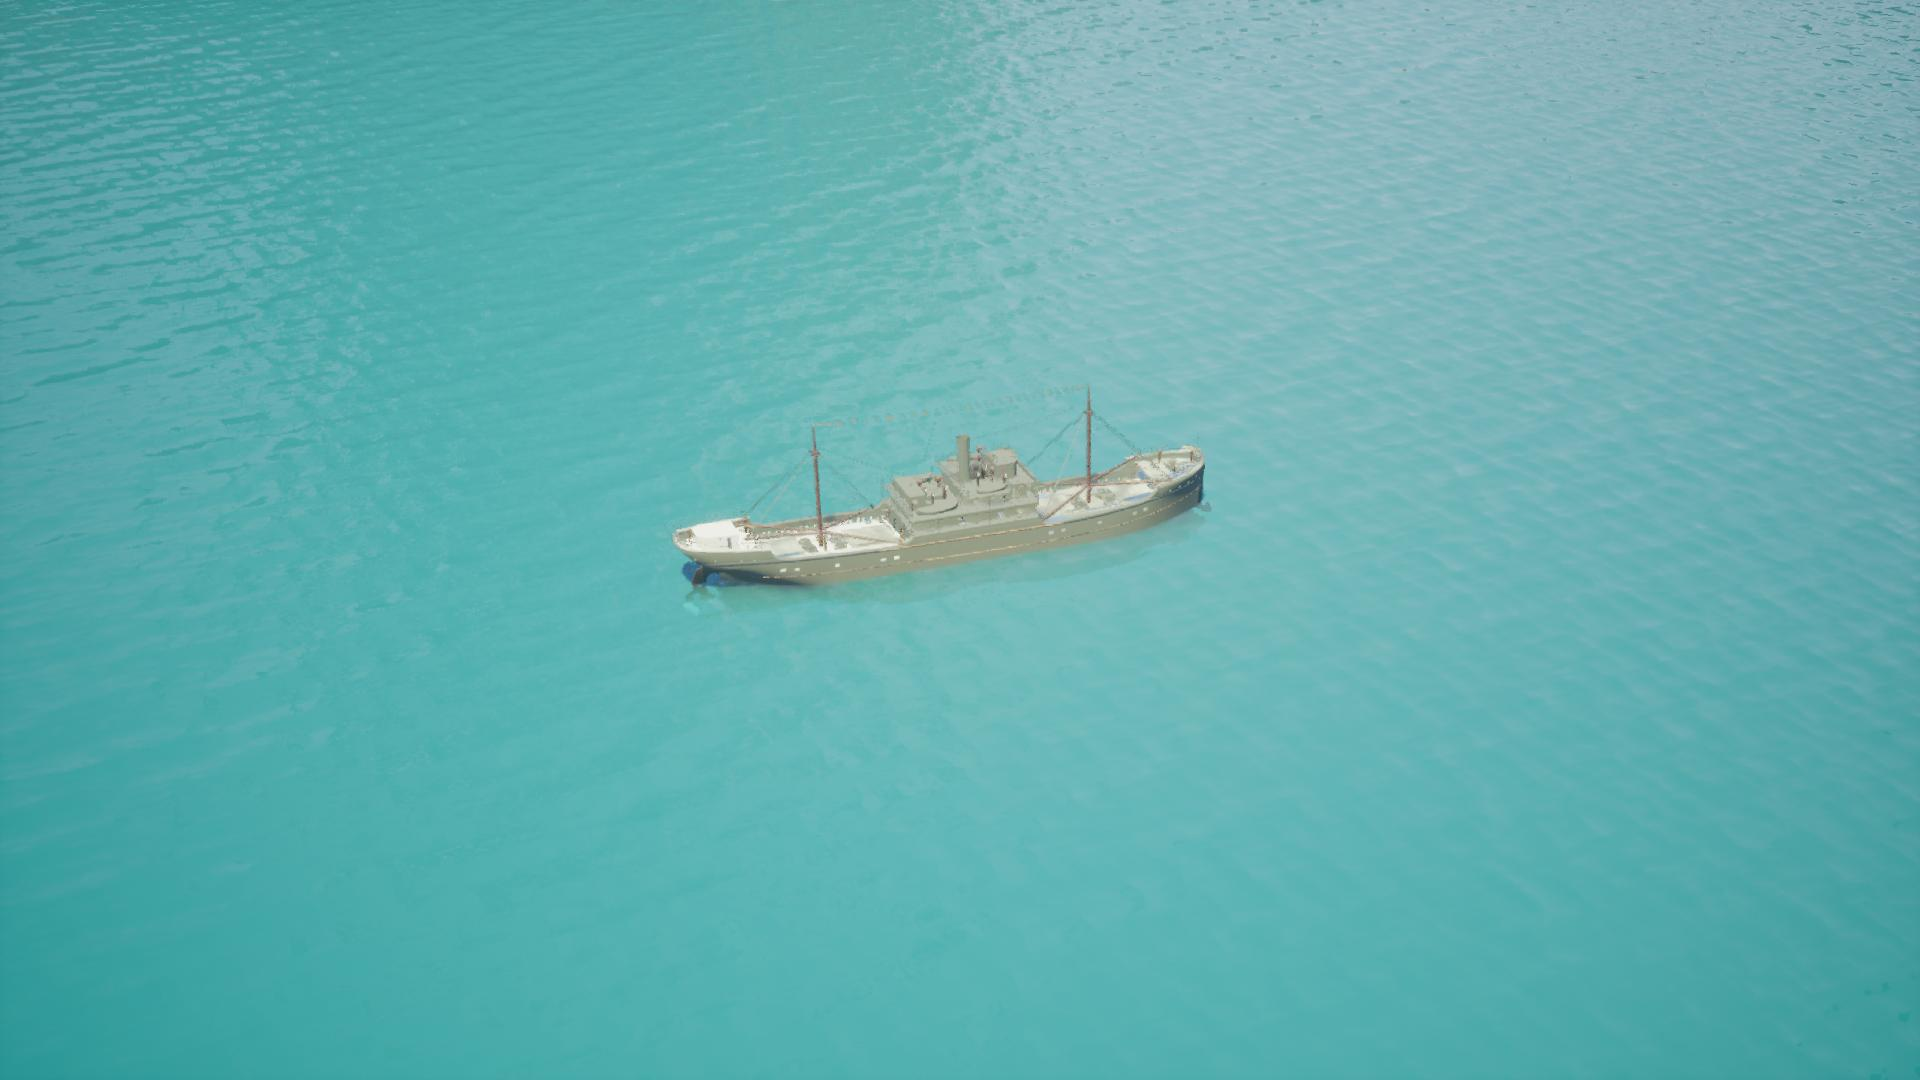Fishing Boat: (674, 427, 1209, 596)
